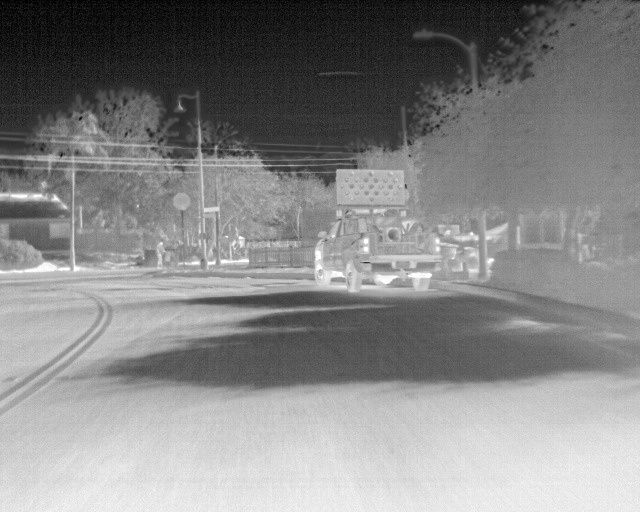vehicle: (314, 211, 439, 288)
